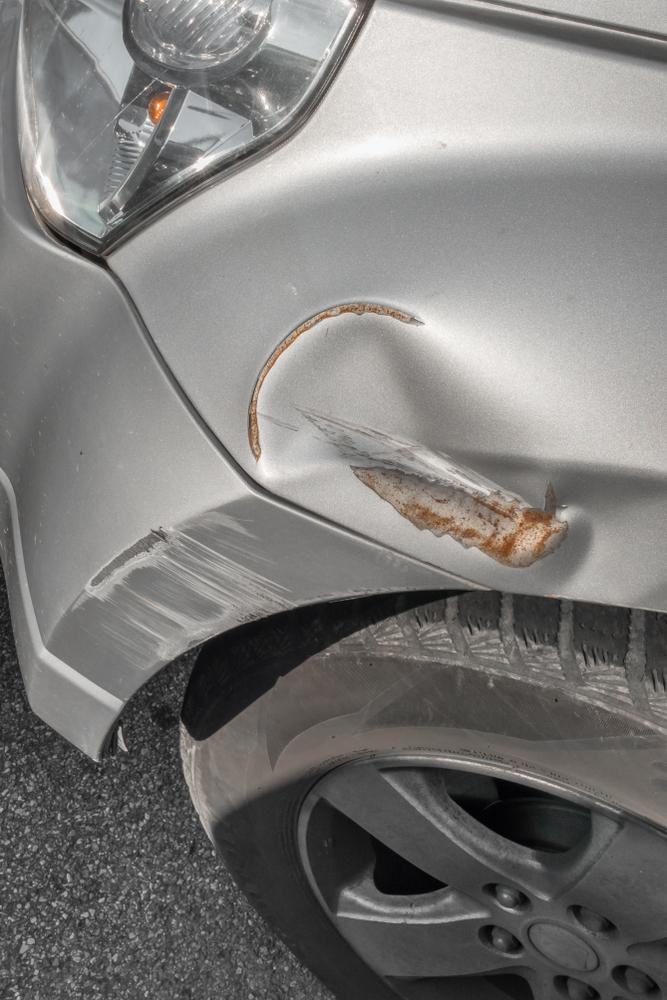dent: (253, 308, 667, 606)
scratch: (70, 509, 372, 670)
